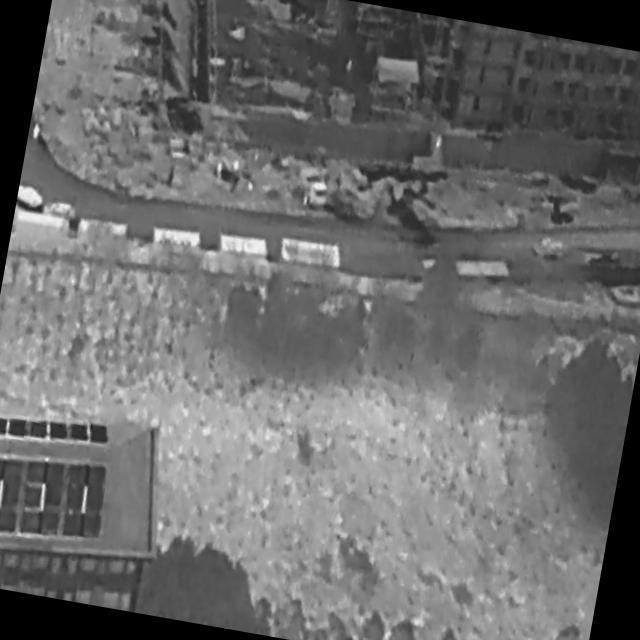person: (31, 121, 42, 142), (345, 57, 357, 76), (436, 132, 446, 152)
